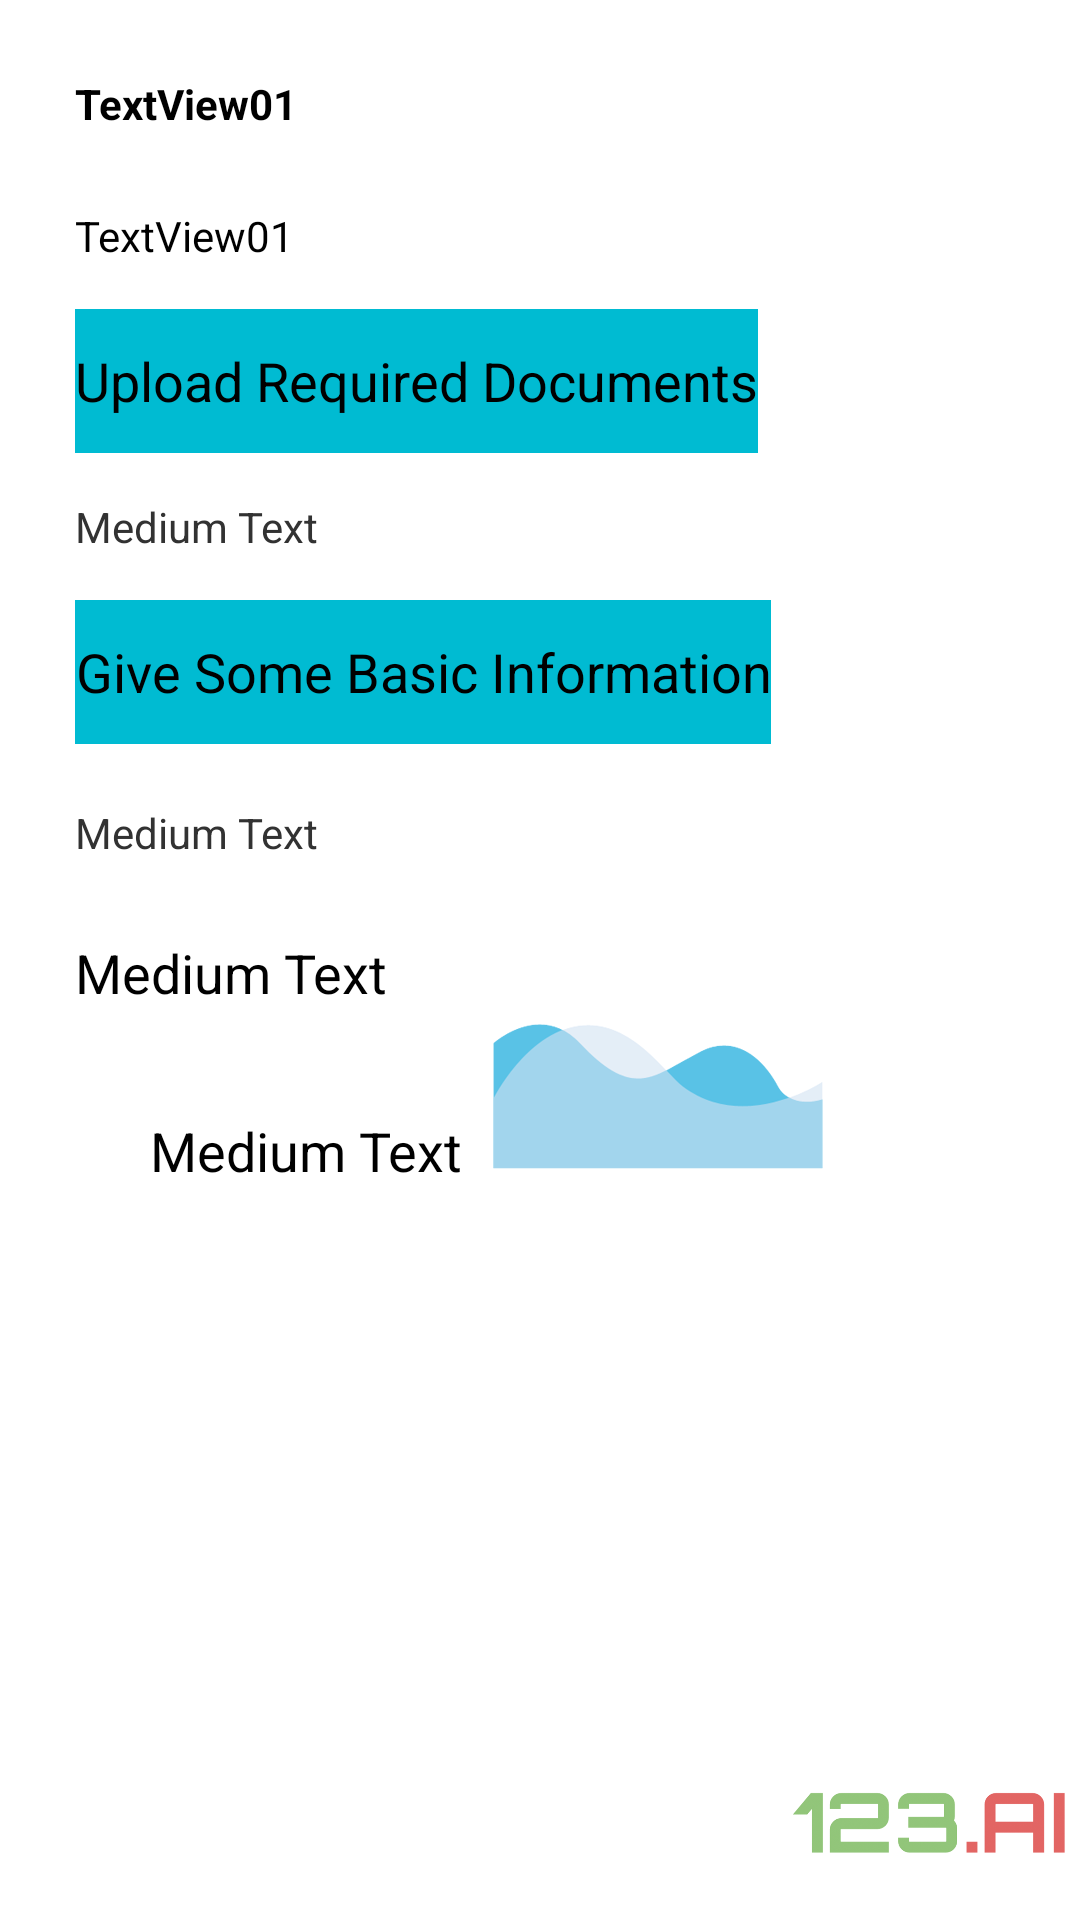

Icons on this 1080x1920 Android screen, each with its box as (x1, y1, x2, y2):
wave chart: (493, 1024, 823, 1169)
